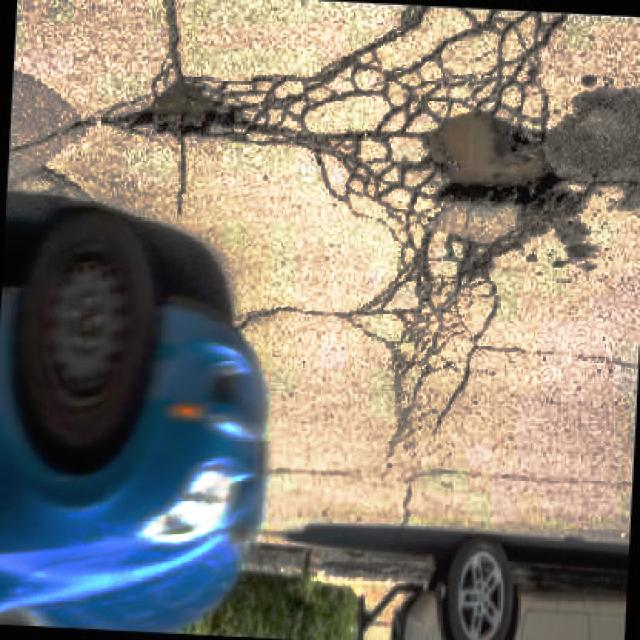pothole: (425, 106, 566, 209), (140, 72, 252, 136)
